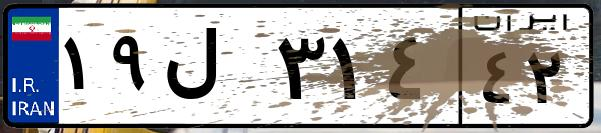1: (330, 28, 385, 110), (57, 26, 110, 100)
2: (525, 38, 570, 115)
3: (270, 28, 330, 110)
4: (385, 28, 445, 110), (475, 38, 525, 113)
9: (110, 28, 158, 98)
ل: (158, 20, 270, 120)
